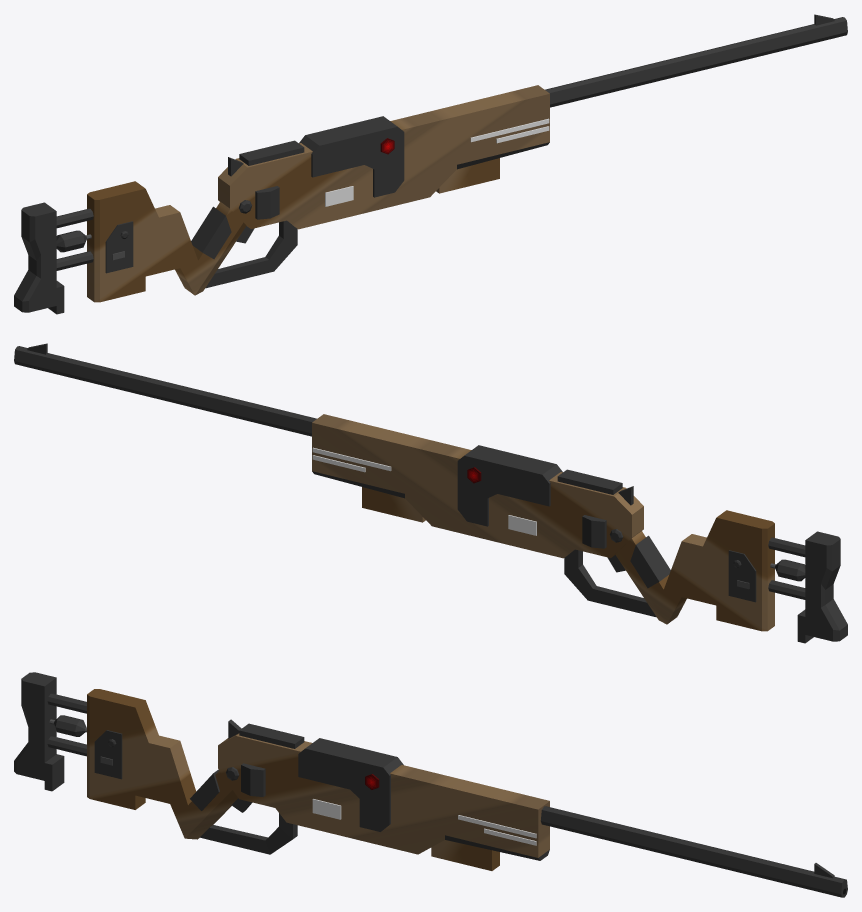
The model's file is Rifle_Sniper_A_V3.FBX.
The picture shows the model from 3 angles, top to bottom: view 1: azimuth 30°, elevation 25°; view 2: azimuth 150°, elevation 25°; view 3: azimuth 330°, elevation 25°; orthographic projection.
Parts seen in each view (by area): view 1: Rifle_Sniper_A_V3, Magazine; view 2: Rifle_Sniper_A_V3, Magazine; view 3: Rifle_Sniper_A_V3, Magazine.
Boxes of the visible parts, <box> form: Rifle_Sniper_A_V3: <box>14,14,847,314</box>; Magazine: <box>436,158,499,193</box>; Rifle_Sniper_A_V3: <box>14,343,847,643</box>; Magazine: <box>362,487,425,522</box>; Rifle_Sniper_A_V3: <box>14,672,847,897</box>; Magazine: <box>431,840,499,870</box>.
Bounding box in the file's own units: 582 × 83.55 × 24.75.
